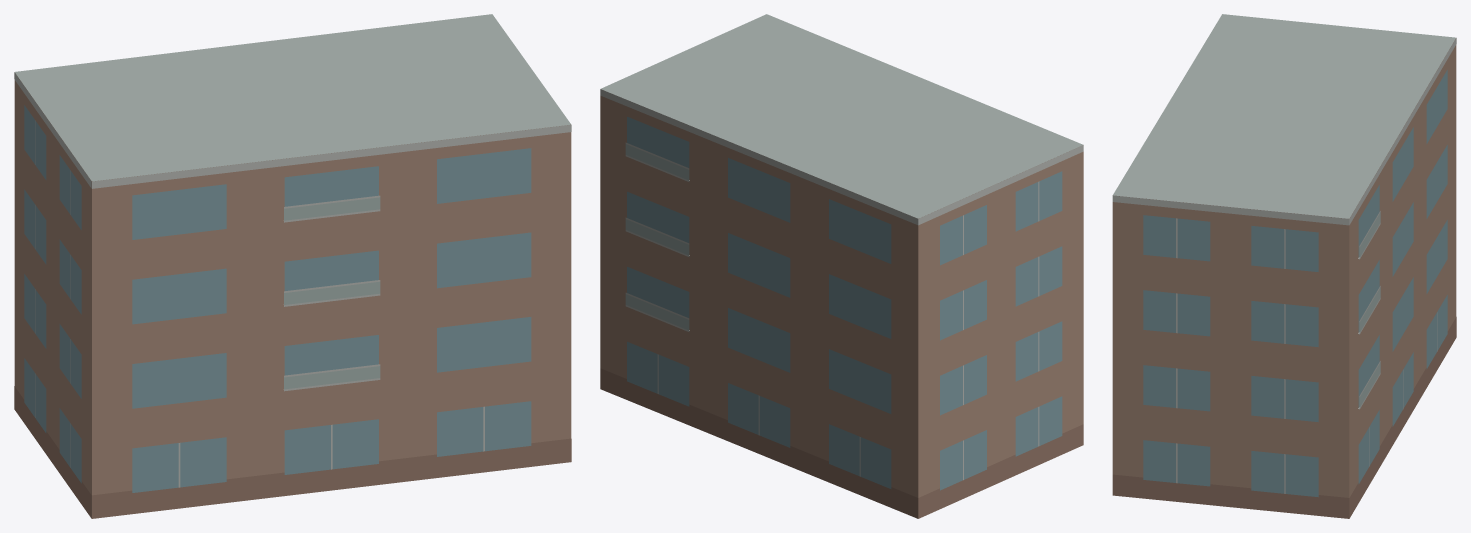
The model's file is survey-upis-32890084.glb.
The picture shows the model from 3 angles, left to right: view 1: azimuth 30°, elevation 25°; view 2: azimuth 150°, elevation 25°; view 3: azimuth 270°, elevation 25°; orthographic projection. The views are drawn at different scales.
Visible parts, largest first — view 1: survey-upis-32890084.tmp; view 2: survey-upis-32890084.tmp; view 3: survey-upis-32890084.tmp.
Boxes of the visible parts, x1,y1,x2,y2 form: survey-upis-32890084.tmp: (14, 14, 571, 518); survey-upis-32890084.tmp: (600, 14, 1083, 518); survey-upis-32890084.tmp: (1112, 14, 1456, 518).
Size of the model in its own units: 16.26 by 11.1 by 11.54.
